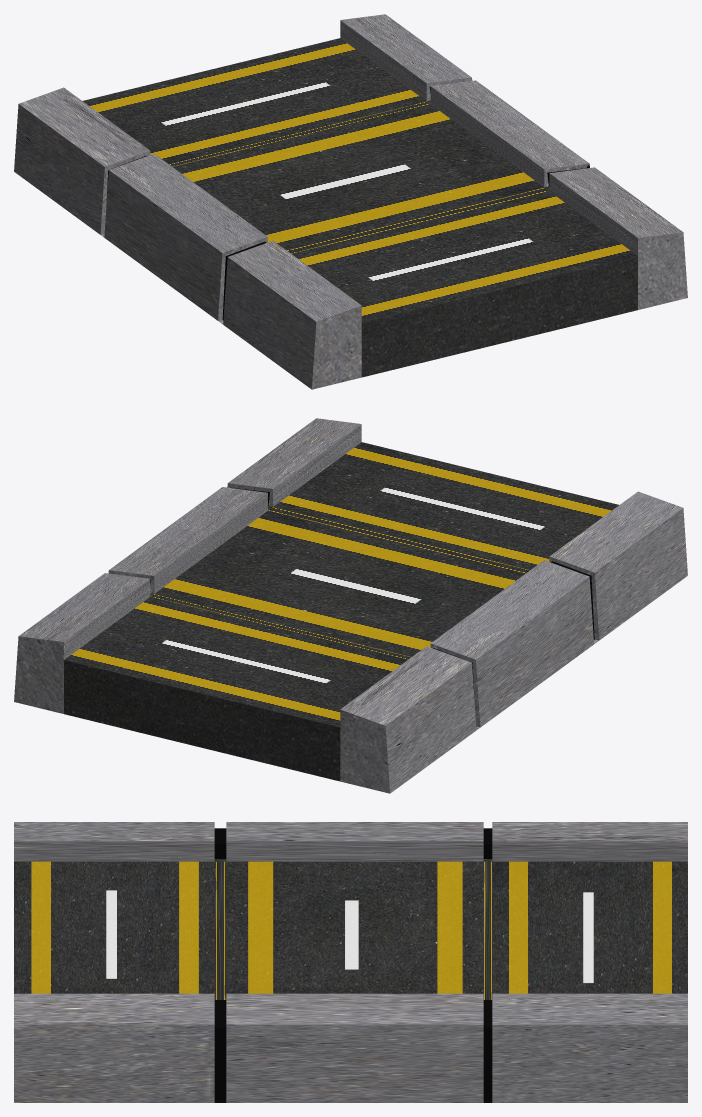
Rendered from Road Straight.FBX.
The picture shows the model from 3 angles, top to bottom: view 1: azimuth 30°, elevation 25°; view 2: azimuth 150°, elevation 25°; view 3: azimuth 270°, elevation 25°; orthographic projection. The views are drawn at different scales.
Visible parts, largest first — view 1: ROAD: Plain003; view 2: ROAD: Plain003; view 3: ROAD: Plain003.
Part boxes in pixels (<box>): ROAD: Plain003: <box>14,14,687,389</box>; ROAD: Plain003: <box>14,418,687,793</box>; ROAD: Plain003: <box>14,822,687,1102</box>.
Size of the model in its own units: 58.32 by 10.74 by 80.
1 material, 1 textured.
